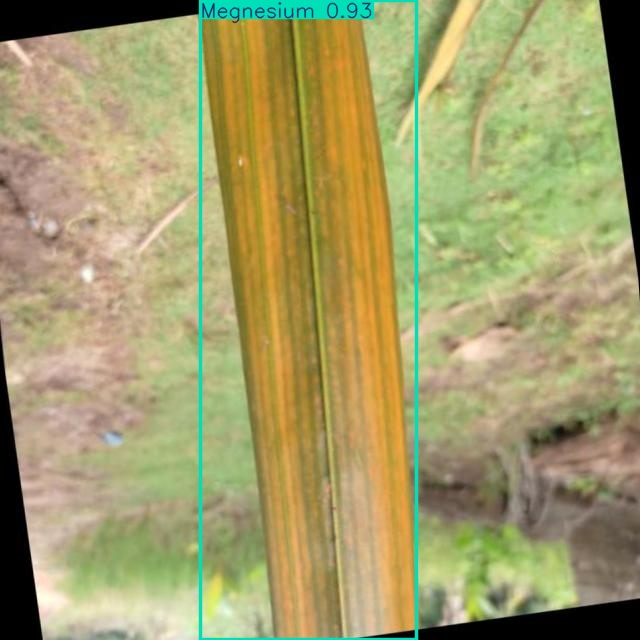Megnesium: (201, 0, 417, 640)
